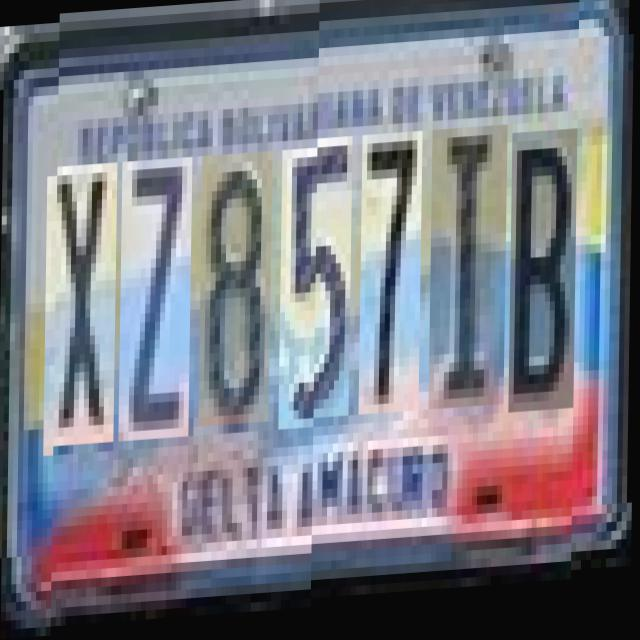5: (280, 142, 353, 426)
7: (360, 137, 423, 420)
8: (200, 146, 273, 421)
B: (510, 137, 578, 420)
I: (430, 132, 508, 416)
X: (45, 155, 118, 439)
Z: (120, 150, 193, 434)
